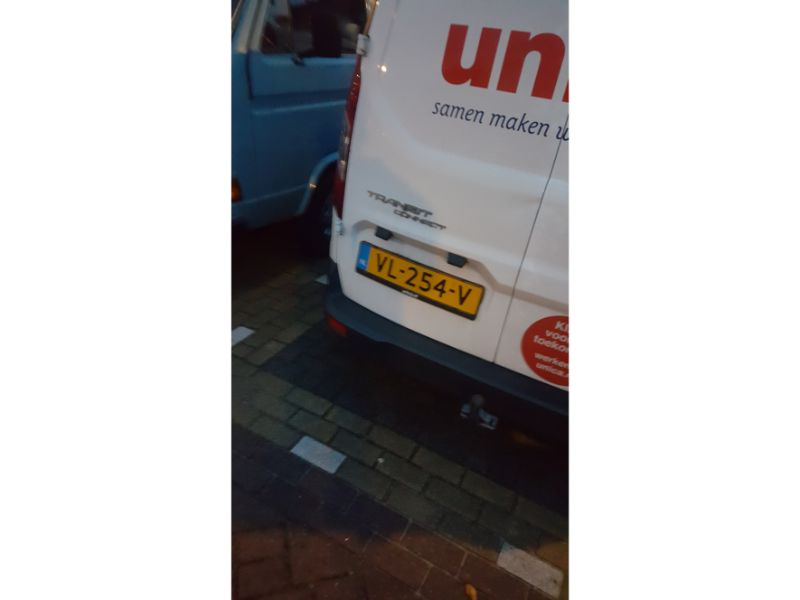kenteken: (345, 244, 485, 334)
